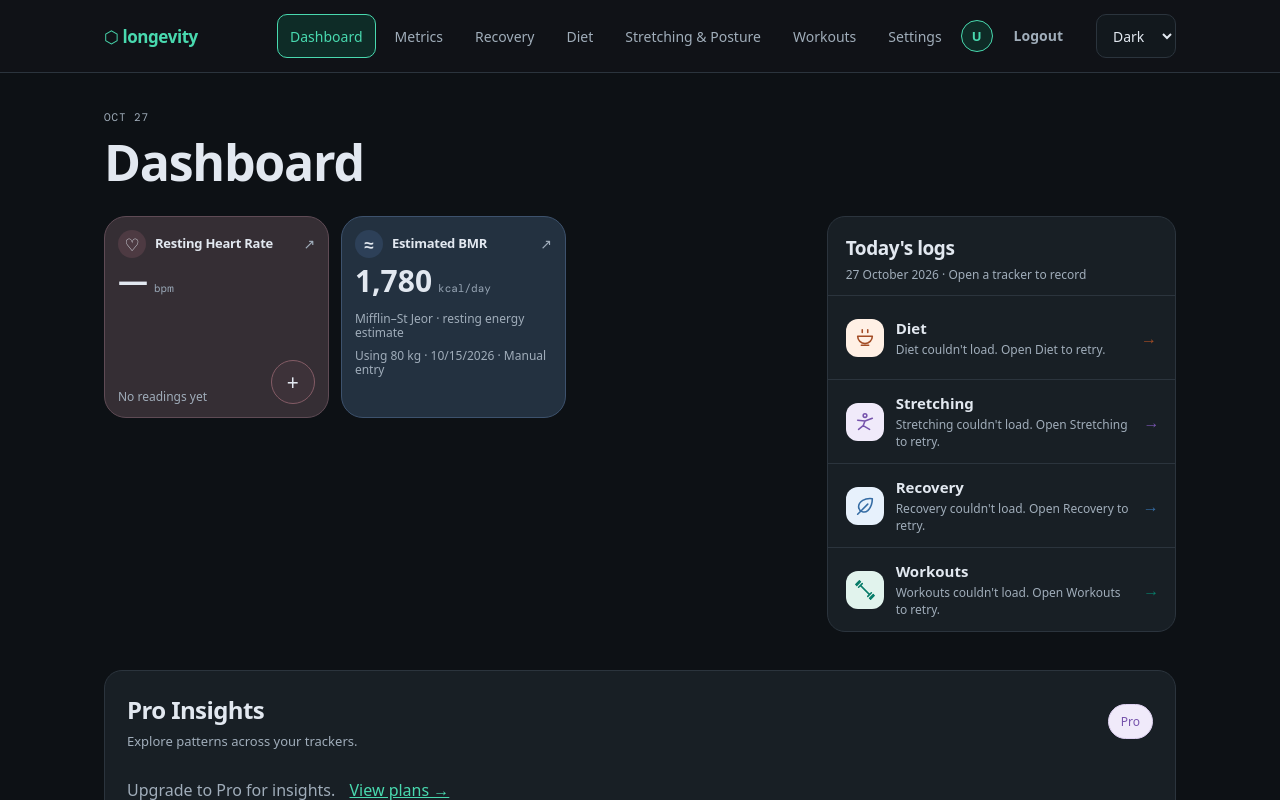
Scenario: dashboard route › clears the metric entry value after logging succeeds
Expected: the heading "Dashboard" is shown, x1=104 y1=128 x2=364 y2=196
Click the button named "add resting heart rate entry" at (293, 382), box x1=271 y1=360 x2=315 y2=404
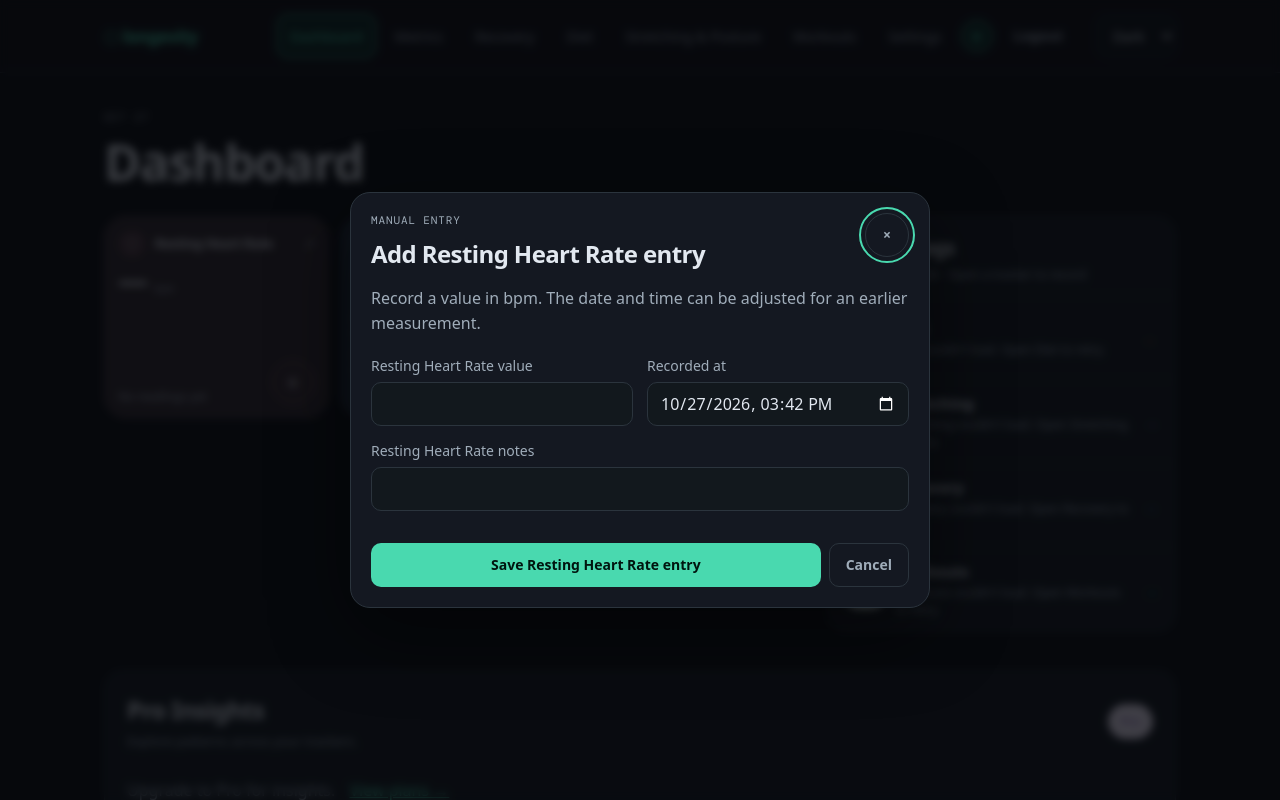
Type "58" into the number field labelled "Resting Heart Rate value" at (502, 404), box x1=371 y1=382 x2=633 y2=426
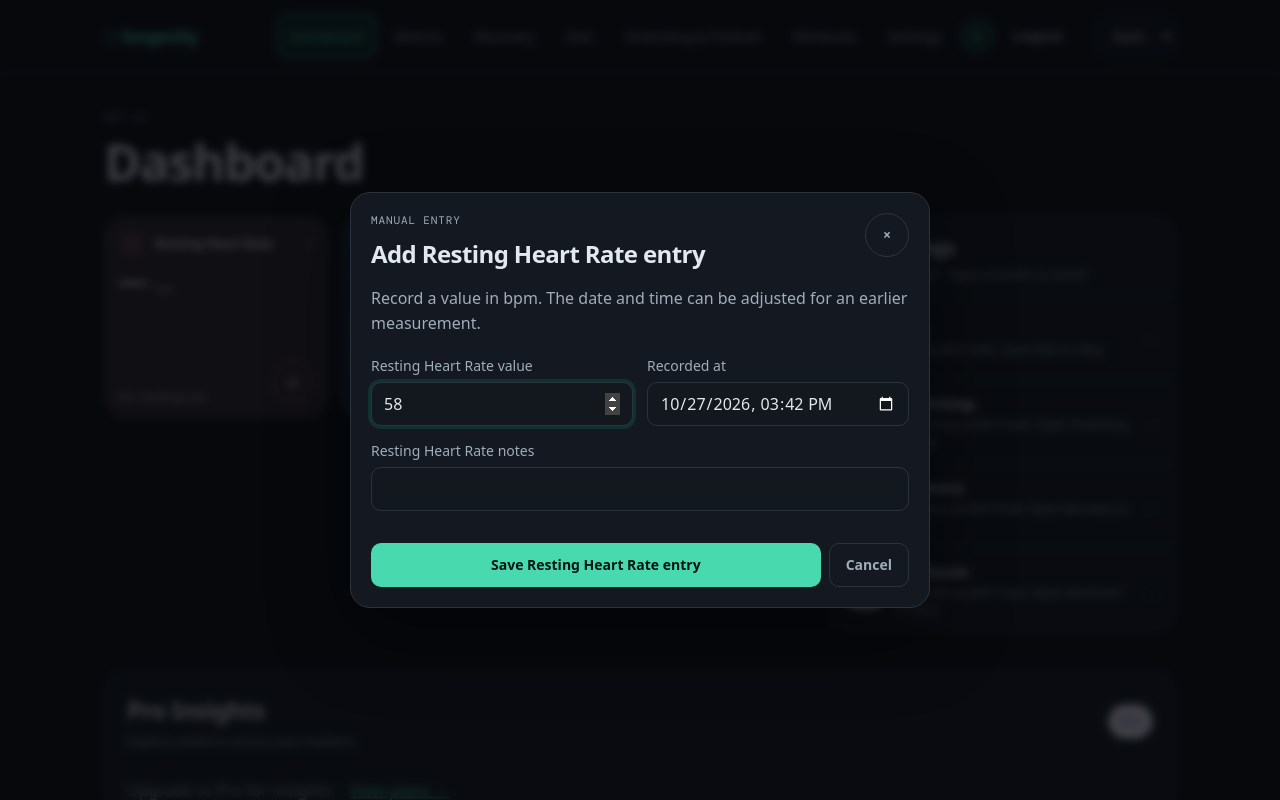
Click the button "Save Resting Heart Rate entry" at (596, 565), box x1=371 y1=543 x2=821 y2=587
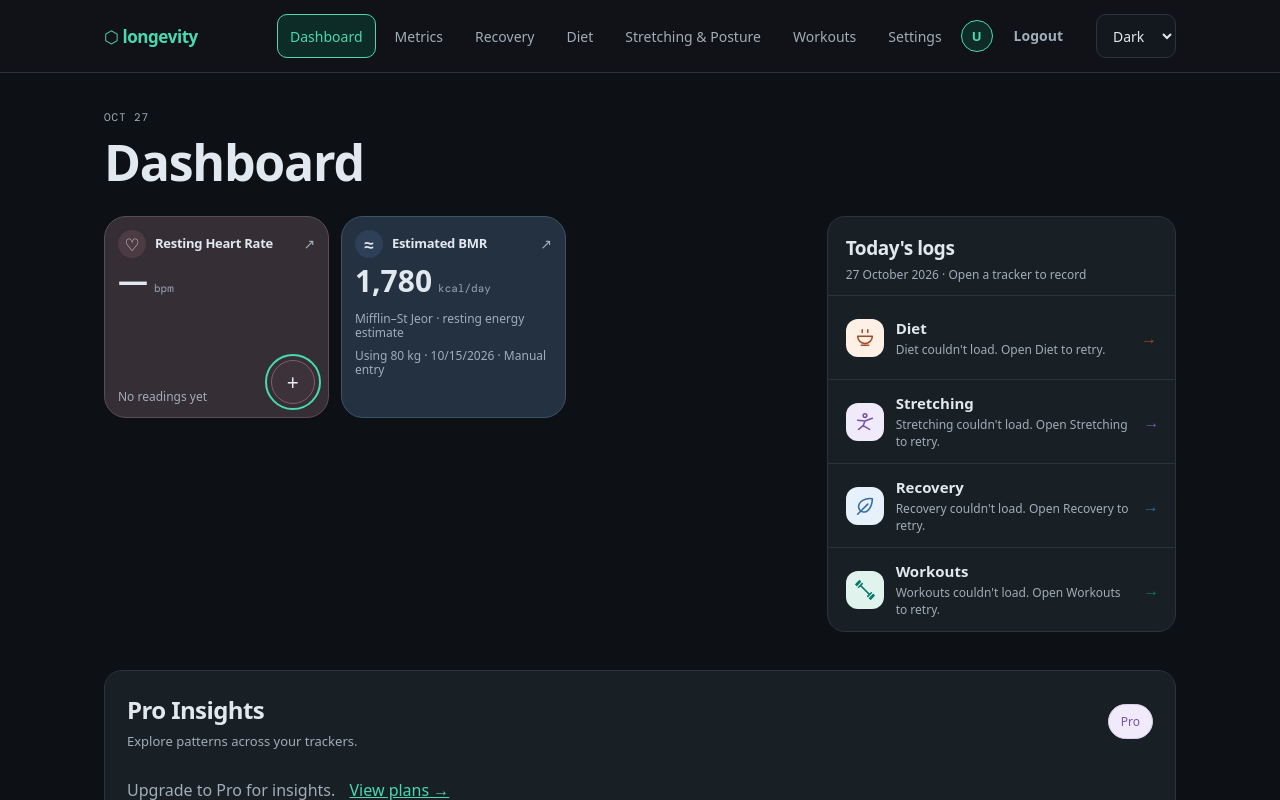
Expected: the dialog is gone
